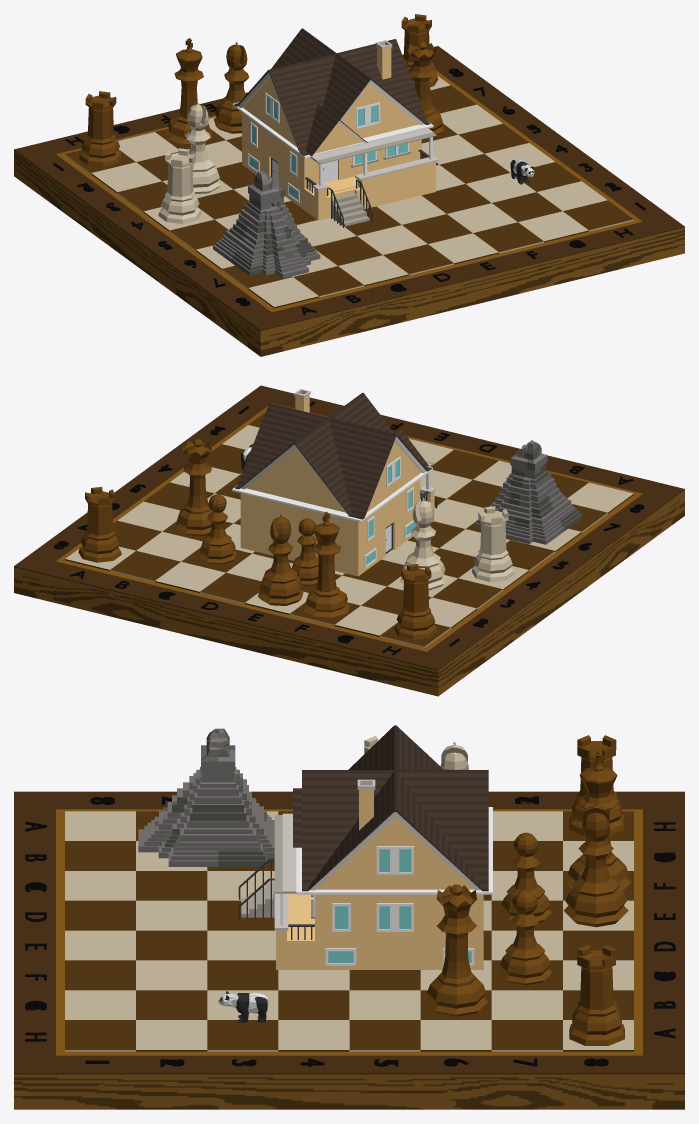
The picture shows the model from 3 angles, top to bottom: view 1: azimuth 30°, elevation 25°; view 2: azimuth 150°, elevation 25°; view 3: azimuth 270°, elevation 25°; orthographic projection. The views are drawn at different scales.
Visible parts, largest first — view 1: Cube.002, Cube.235, OBJRANDOM_GRAN_JAGUAR; view 2: Cube.002, Cube.235, OBJRANDOM_GRAN_JAGUAR; view 3: Cube.002, Cube.235, OBJRANDOM_GRAN_JAGUAR, ANIMAL_PANDA.
Boxes of the visible parts, left/top/right/bottom form: Cube.002: left=14, top=14, right=684, bottom=356; Cube.235: left=232, top=28, right=438, bottom=227; OBJRANDOM_GRAN_JAGUAR: left=213, top=171, right=320, bottom=278; Cube.002: left=14, top=385, right=684, bottom=696; Cube.235: left=232, top=389, right=437, bottom=576; OBJRANDOM_GRAN_JAGUAR: left=475, top=440, right=582, bottom=544; Cube.002: left=14, top=735, right=684, bottom=1109; Cube.235: left=238, top=725, right=492, bottom=969; OBJRANDOM_GRAN_JAGUAR: left=138, top=728, right=274, bottom=866; ANIMAL_PANDA: left=218, top=991, right=268, bottom=1022.
Bounding box in the file's own units: 3981 × 1492 × 4012.
23 materials, 2 textured.
